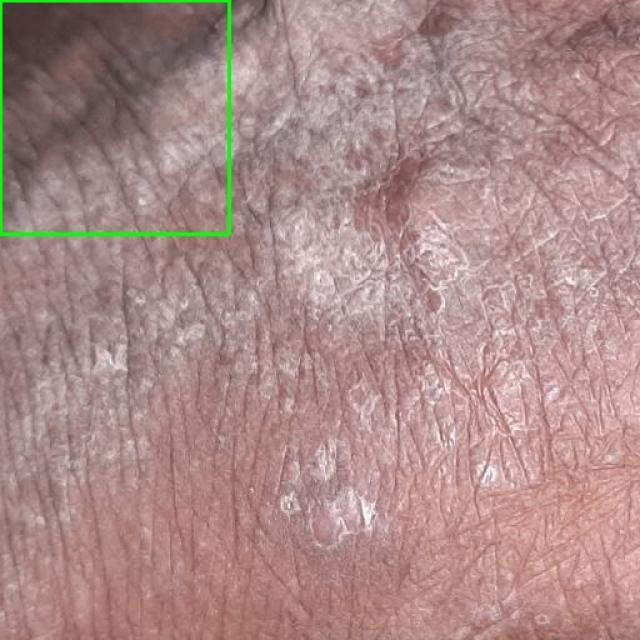Eczema: (0, 0, 230, 235)
